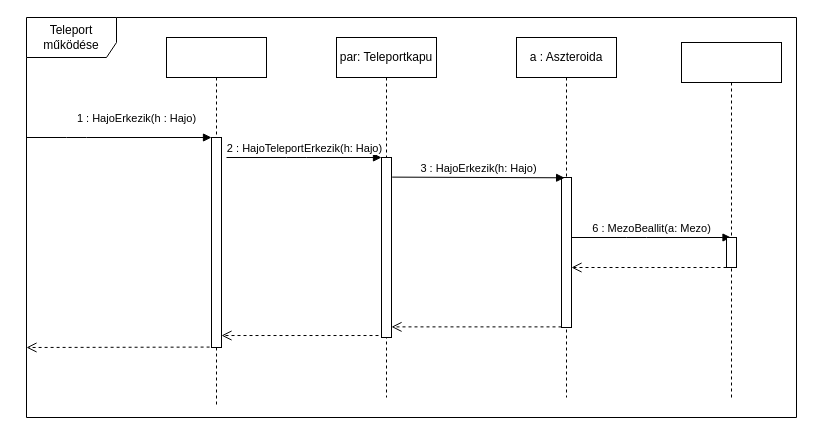
Image size: 814x435. Some labels were removed from this diagram. The box of each missing label's shape, as (x1, y1, x2, y2) in pixels:
h: Hajo: (680, 42, 782, 398)
t: Teleportkapu: (166, 36, 266, 408)
